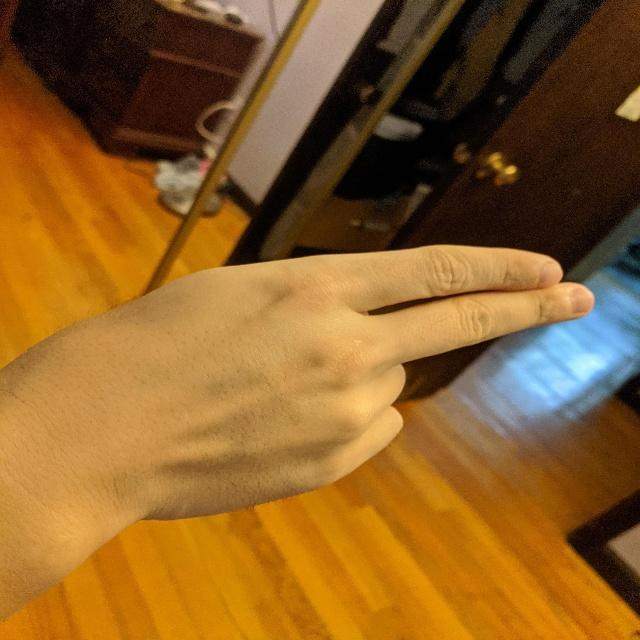H: (55, 237, 597, 531)
